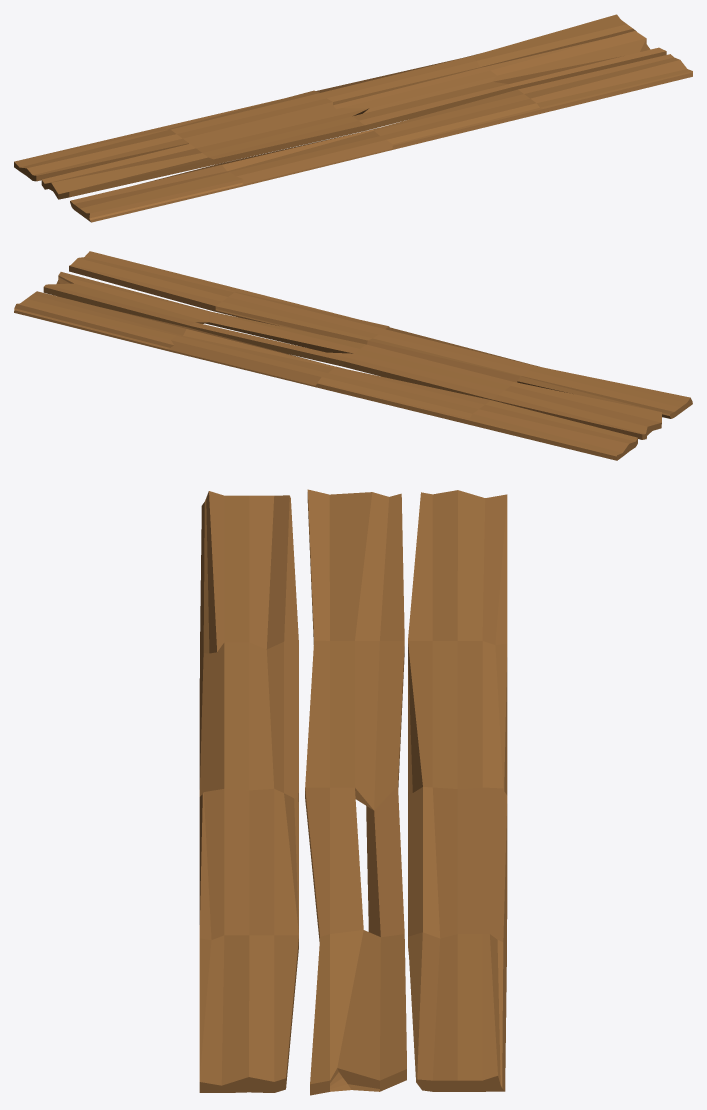
Rendered from Wood_Ramp.fbx.
The picture shows the model from 3 angles, top to bottom: view 1: azimuth 30°, elevation 25°; view 2: azimuth 150°, elevation 25°; view 3: azimuth 270°, elevation 25°; orthographic projection. The views are drawn at different scales.
Visible parts, largest first — view 1: Plank R; view 2: Plank R; view 3: Plank R.
Boxes of the visible parts, box(x1,y1,x2,y2) form: Plank R: box(14, 14, 692, 222); Plank R: box(14, 251, 692, 460); Plank R: box(199, 489, 507, 1095).
Size of the model in its own units: 1019 by 19.49 by 225.
